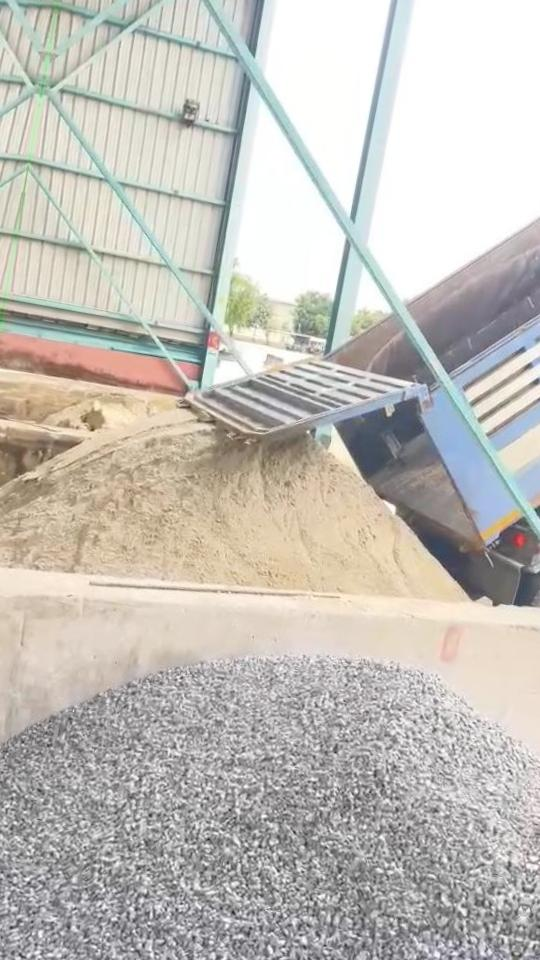gravel: (0, 657, 540, 960)
sand: (0, 411, 465, 601), (47, 394, 166, 431)
